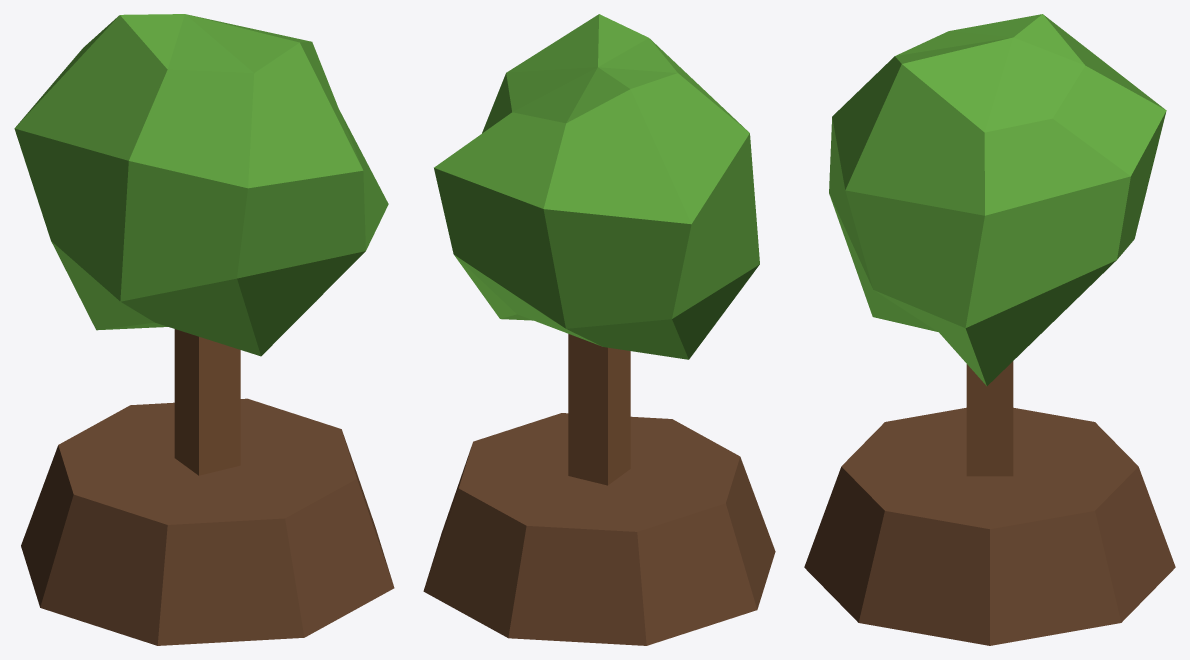
The model's file is sapling.obj.
3 views of the same model, side by side, from view 1: azimuth 30°, elevation 25°; view 2: azimuth 150°, elevation 25°; view 3: azimuth 270°, elevation 25° (orthographic). The views are drawn at different scales.
Parts seen in each view (by area): view 1: item; view 2: item; view 3: item.
Boxes of the visible parts, x1,y1,x2,y2 form: item: (14,14,394,645); item: (423,14,775,645); item: (804,14,1175,645).
Bounding box in the file's own units: 0.4009 × 0.6237 × 0.4.
